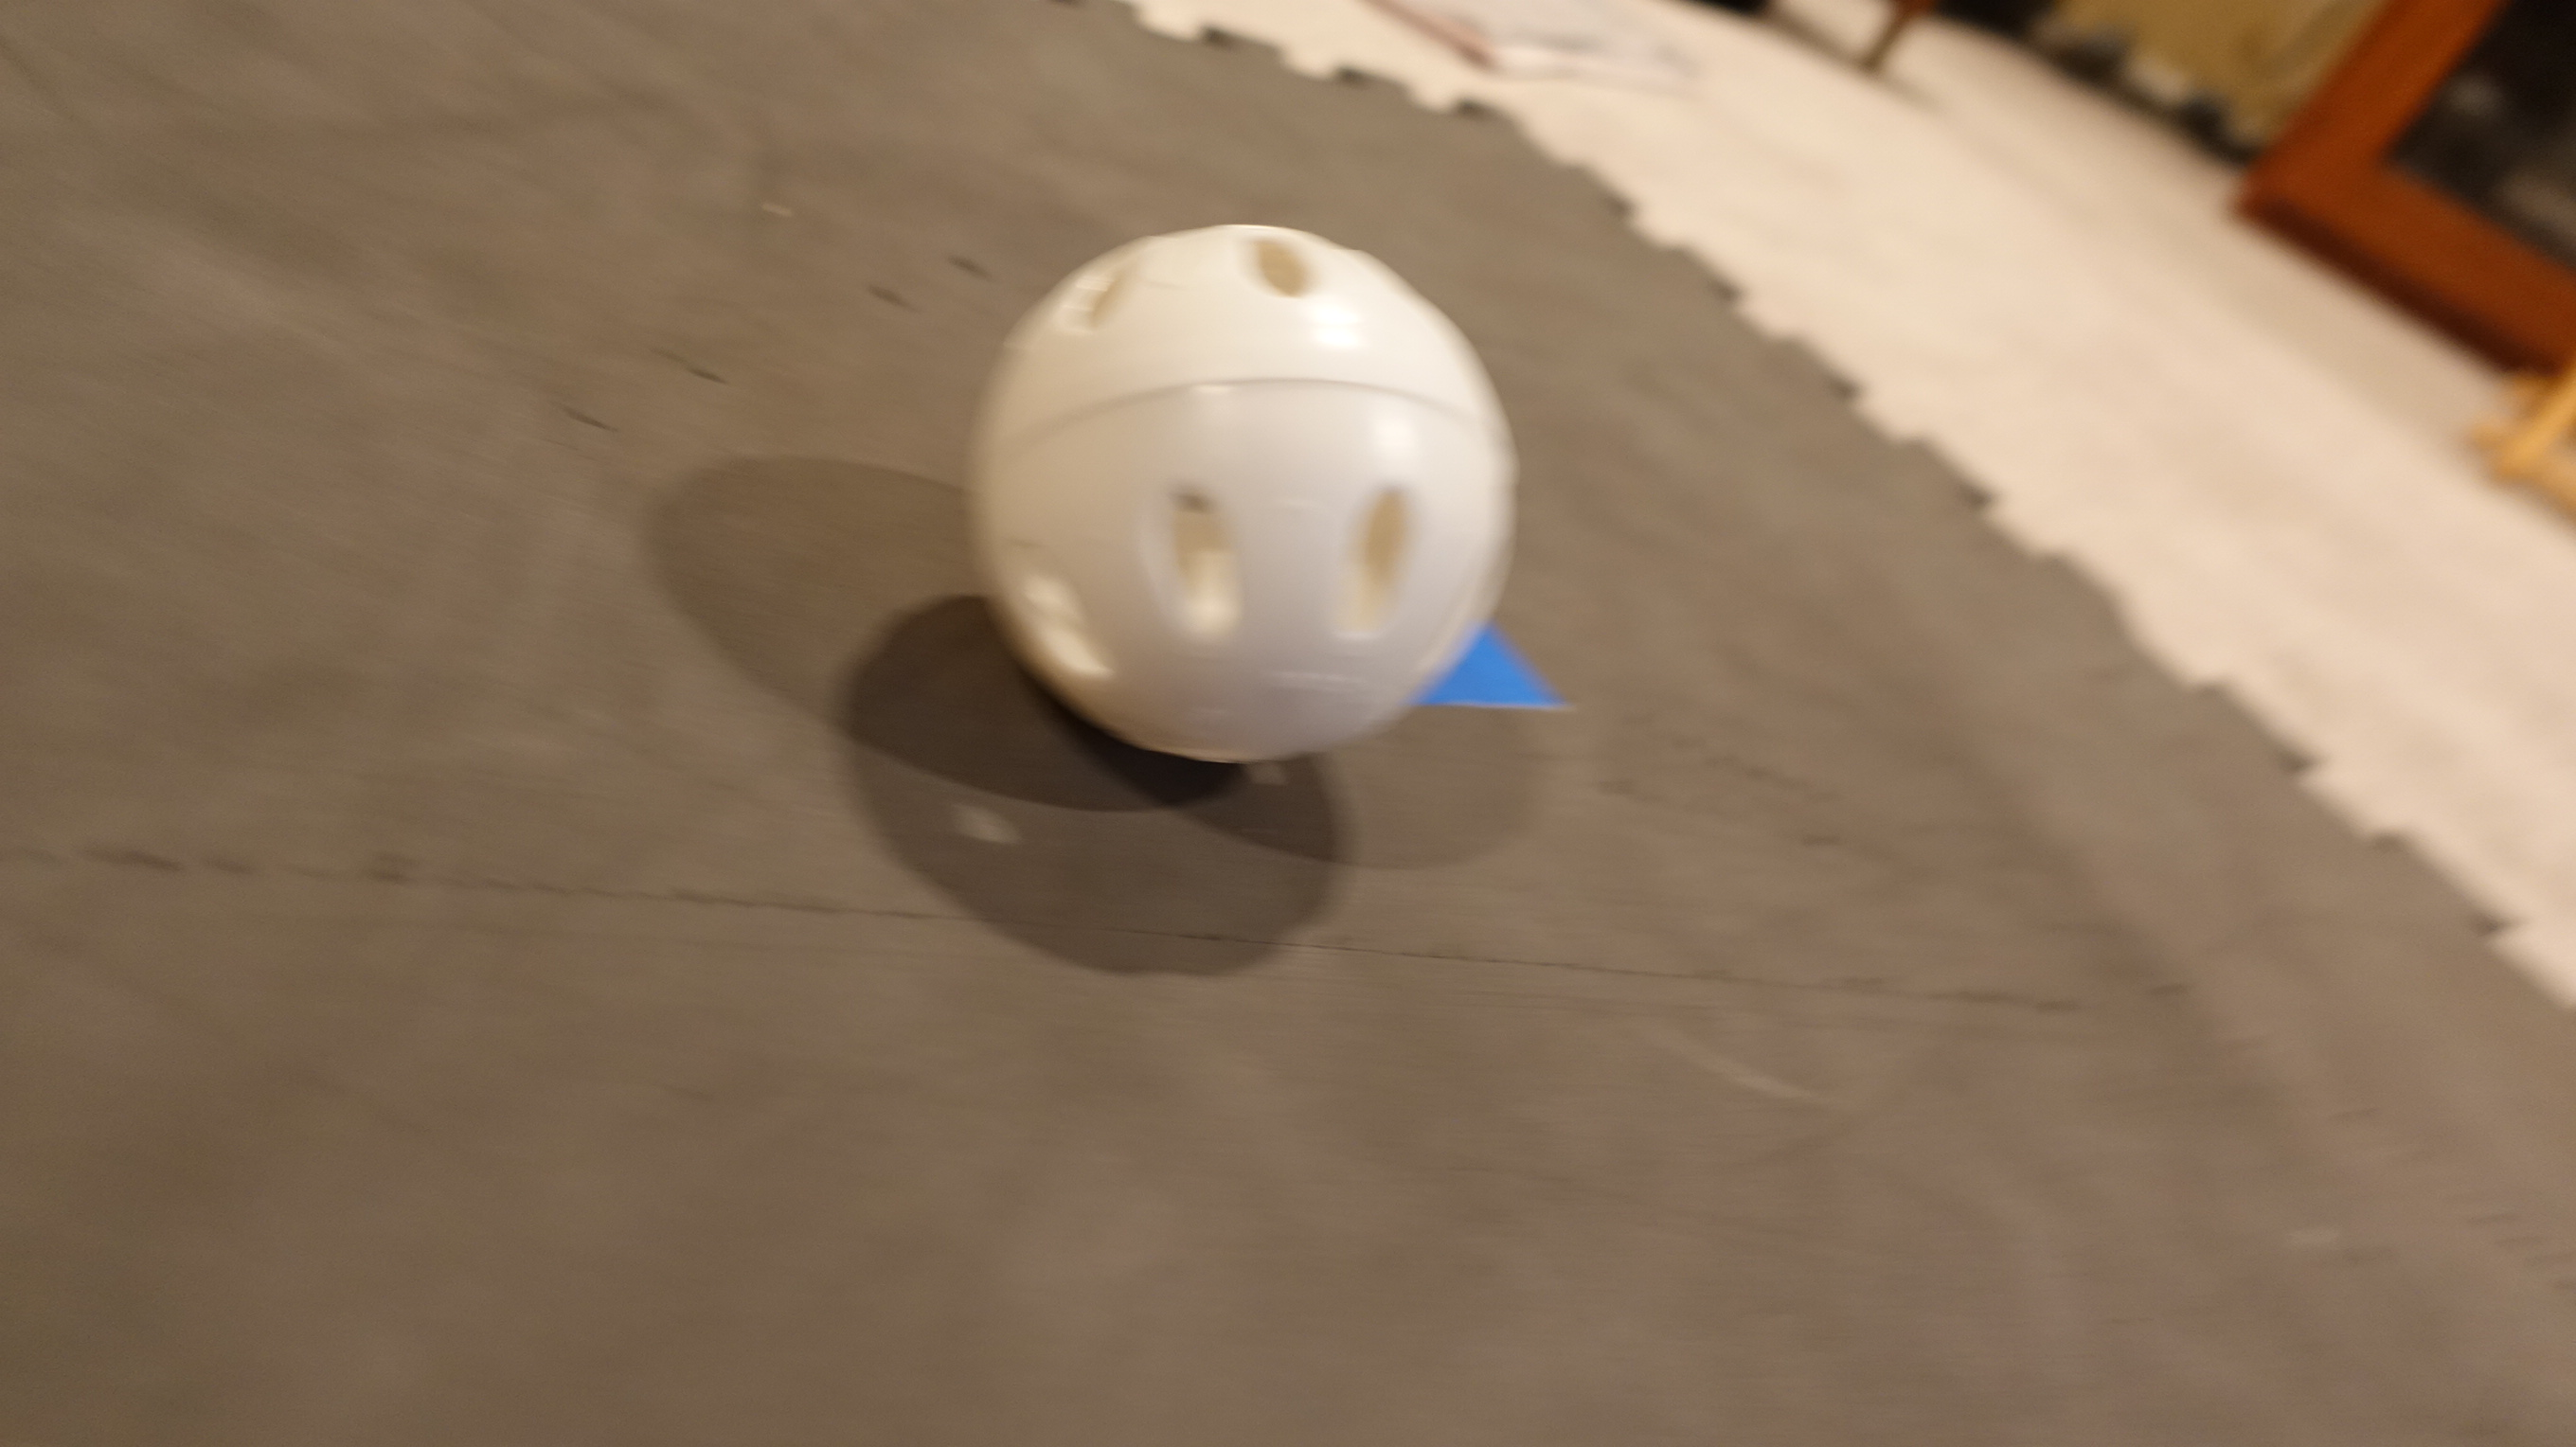silver: (952, 219, 1530, 789)
